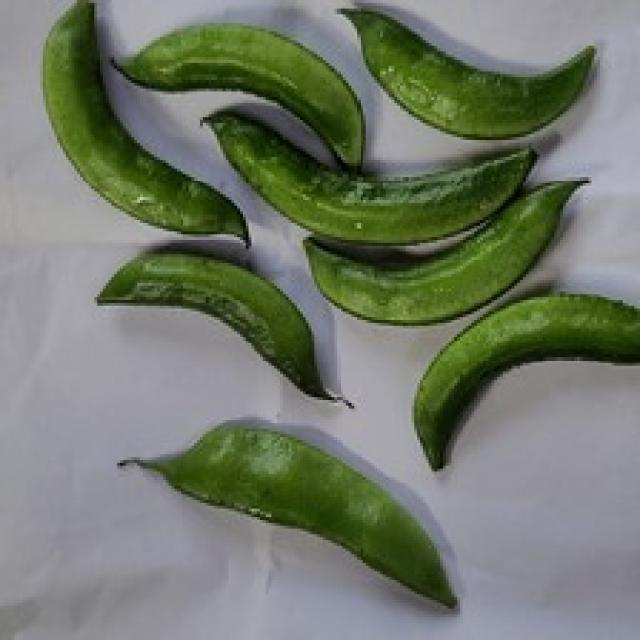Bean: (114, 417, 460, 612), (40, 0, 249, 249), (200, 106, 537, 243), (300, 174, 589, 326), (94, 246, 354, 408), (412, 288, 637, 472), (108, 20, 366, 171), (334, 3, 594, 137)
